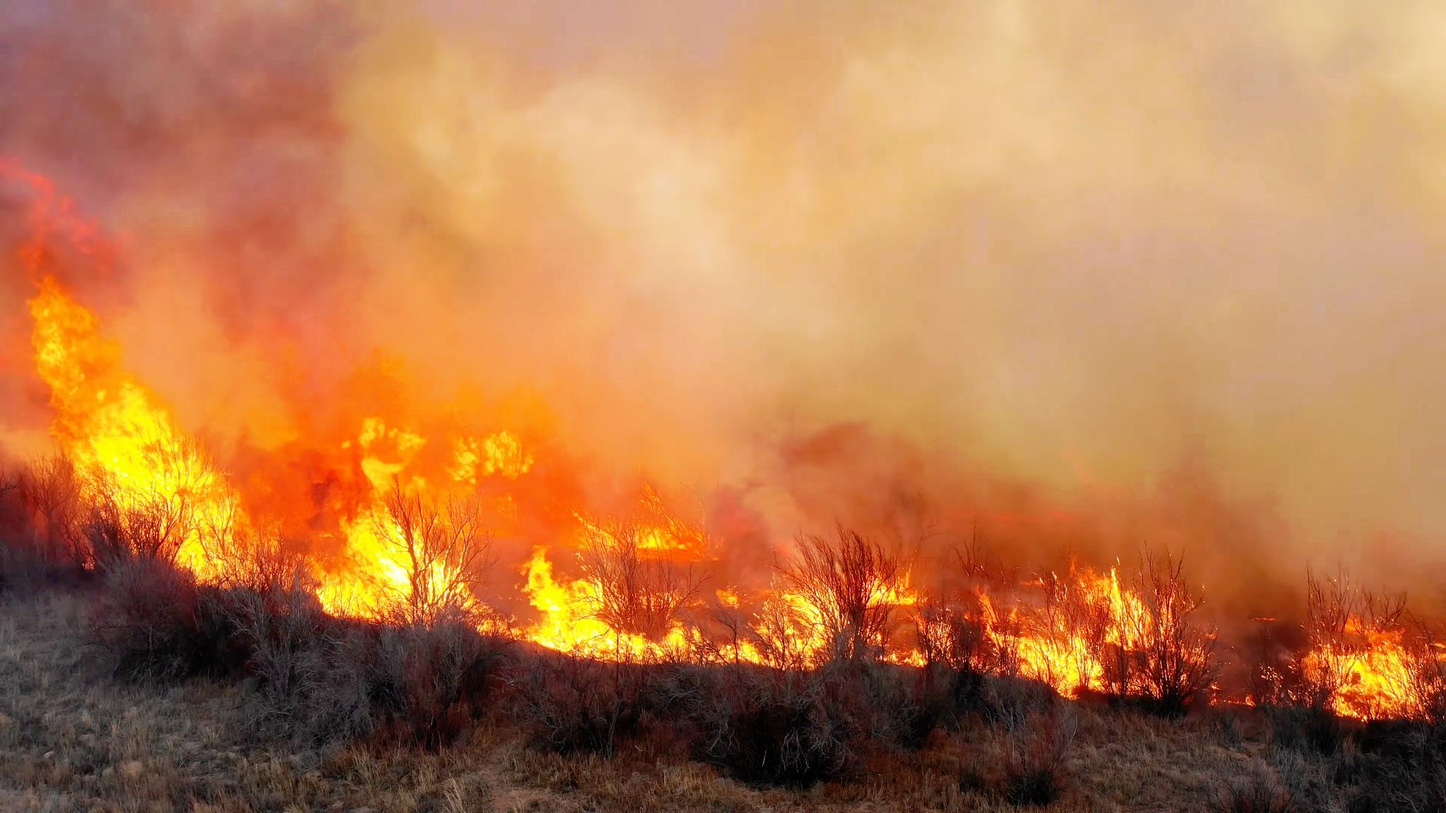fire: (6, 264, 246, 578), (486, 537, 660, 691), (311, 495, 460, 632), (1006, 567, 1159, 696), (1294, 608, 1446, 704)
smoke: (0, 0, 399, 169)
